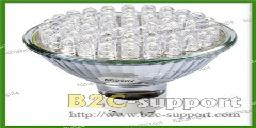LED: (21, 2, 238, 79)
